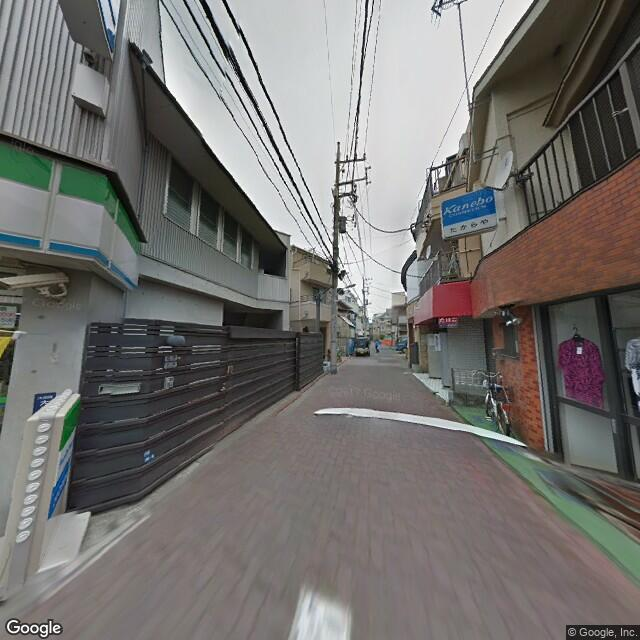family_mart: (1, 138, 140, 291)
